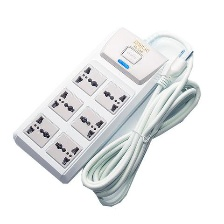three_eye_plug: (10, 22, 175, 190)
